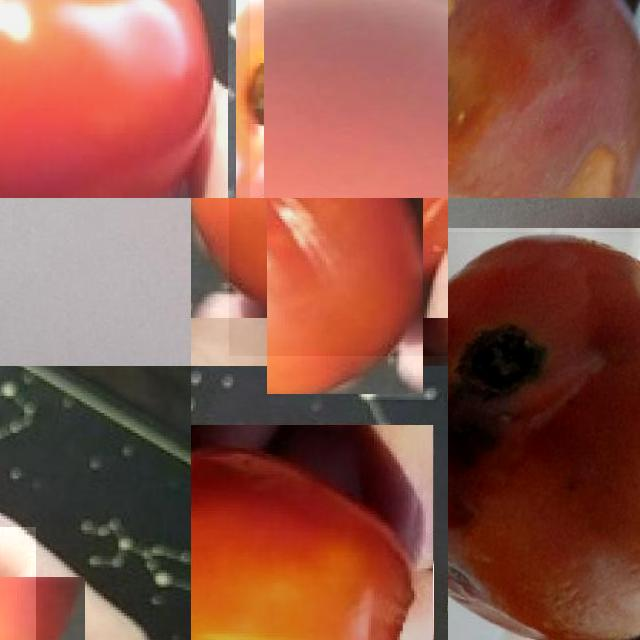1: (191, 425, 433, 640), (229, 198, 448, 356)
Fresh Tomato: (0, 0, 250, 198), (264, 0, 448, 198)
Rotten Tomato: (448, 232, 640, 640), (448, 0, 640, 198)
